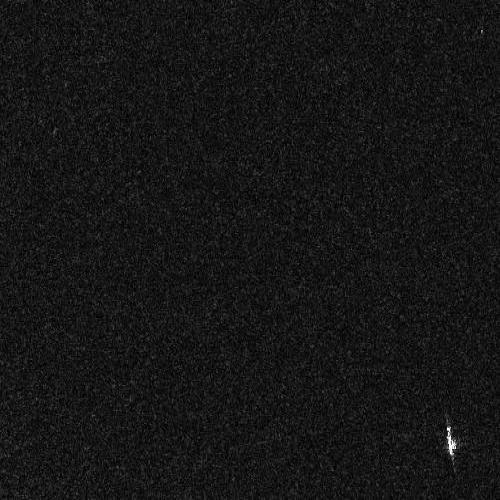ship: (445, 423, 456, 458)
